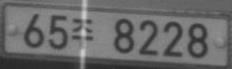2: (138, 18, 159, 55), (162, 20, 183, 57)
5: (47, 14, 68, 50)
6: (23, 12, 44, 49)
8: (186, 21, 208, 58), (113, 17, 134, 53)
주: (71, 17, 93, 48)
